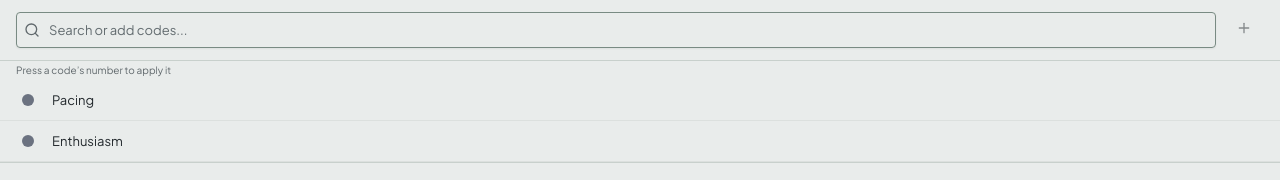
CodePanel › a search that matches nothing is not an empty codebook
Type "zzz" into the field labelled "Search or add codes" at [616, 30], box [16,12,1216,48]
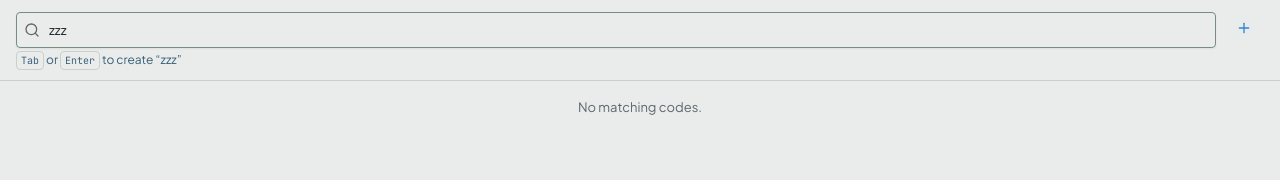
Check: the text "No matching codes." is shown, box [578,99,702,115]
